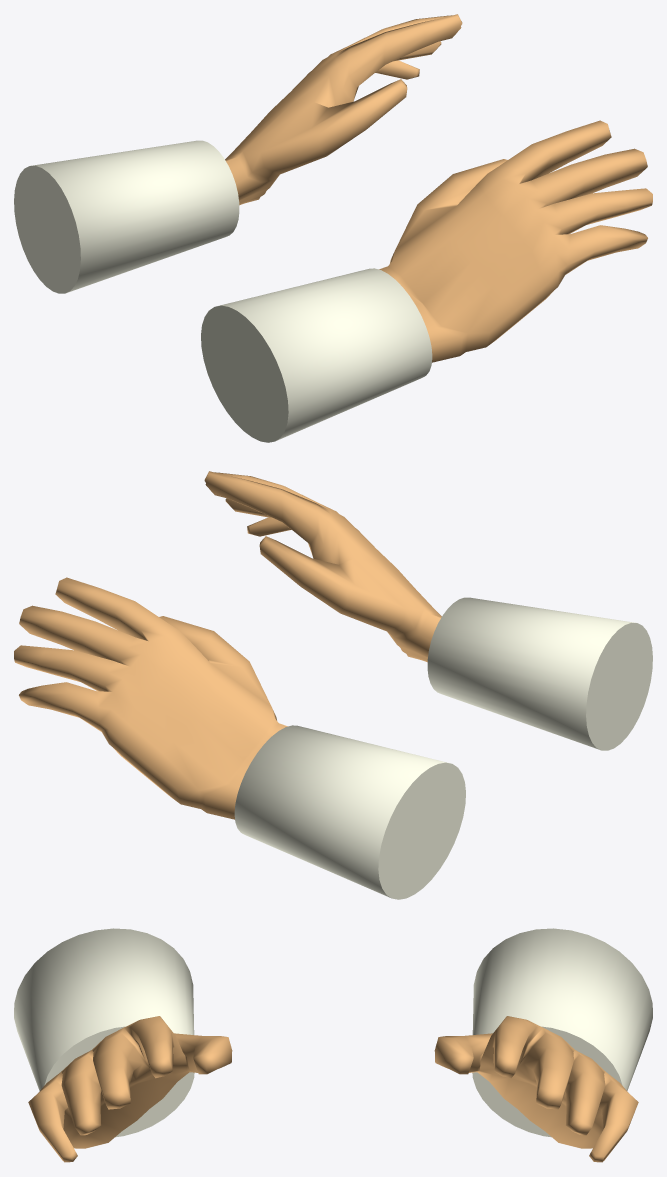
Rendered from açık el.fbx.
3 views of the same model, one above another, from view 1: azimuth 30°, elevation 25°; view 2: azimuth 150°, elevation 25°; view 3: azimuth 270°, elevation 25° (orthographic). The views are drawn at different scales.
Parts seen in each view (by area): view 1: Cylinder, Cylinder.001; view 2: Cylinder.001, Cylinder; view 3: Cylinder, Cylinder.001.
Boxes of the visible parts, <box> form: Cylinder: <box>201,120,652,442</box>; Cylinder.001: <box>14,14,462,293</box>; Cylinder.001: <box>14,577,465,899</box>; Cylinder: <box>204,471,652,750</box>; Cylinder: <box>14,928,232,1162</box>; Cylinder.001: <box>434,928,652,1162</box>.
Size of the model in its own units: 415 by 193 by 478.
